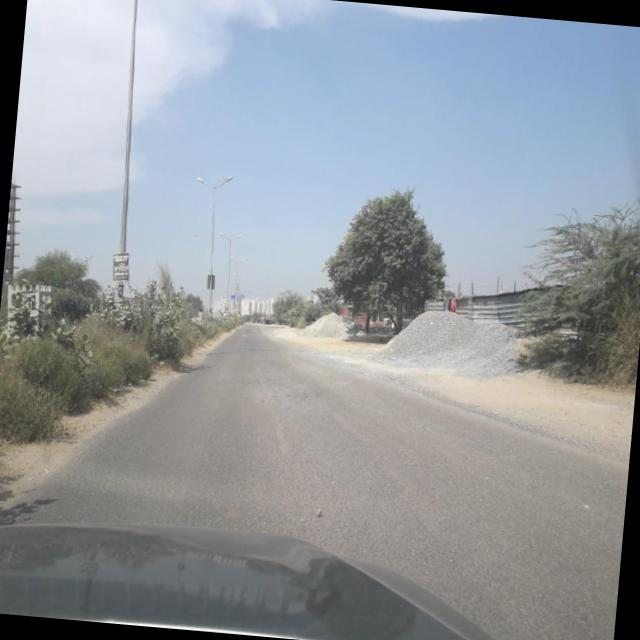crack: (416, 449, 625, 640)
pothole: (396, 462, 580, 640)
